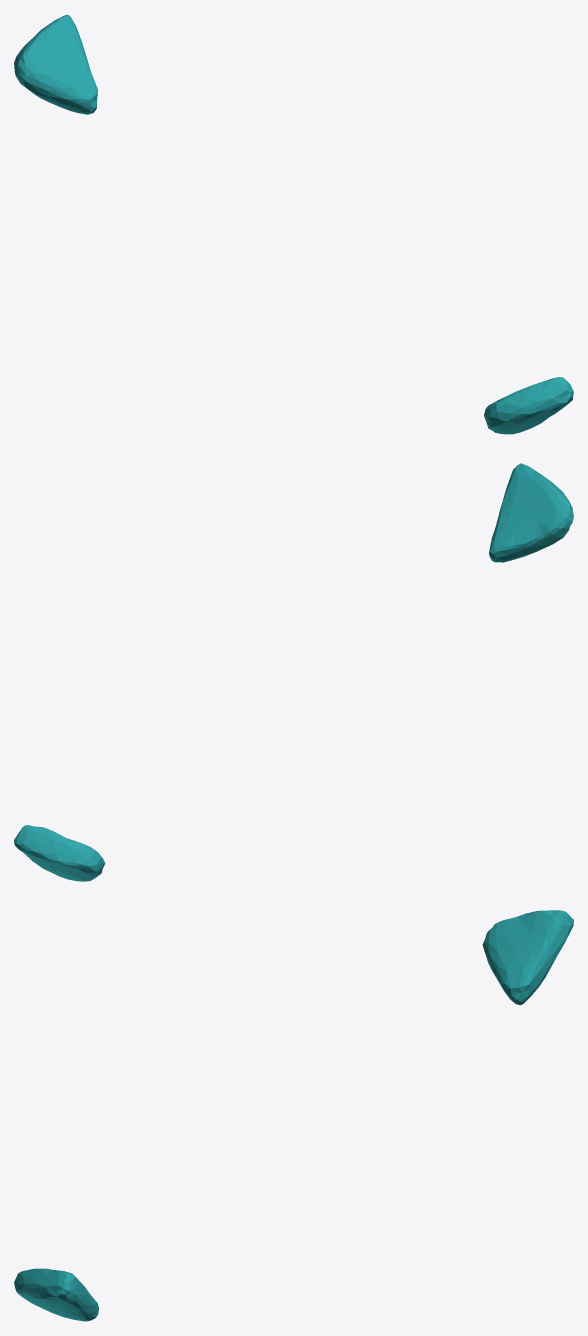
3 views of the same model, one above another, from view 1: azimuth 30°, elevation 25°; view 2: azimuth 150°, elevation 25°; view 3: azimuth 330°, elevation 25° (orthographic).
Visible parts, largest first — view 1: 233.obj; view 2: 233.obj; view 3: 233.obj.
Boxes of the visible parts, x1,y1,x2,y2 form: 233.obj: (14, 14, 573, 434); 233.obj: (14, 463, 573, 881); 233.obj: (14, 910, 573, 1321).
Bounding box in the file's own units: 638 × 624 × 7851.
